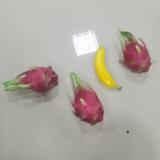pitaya: (71, 73, 105, 125), (119, 31, 152, 74), (8, 66, 59, 93)
